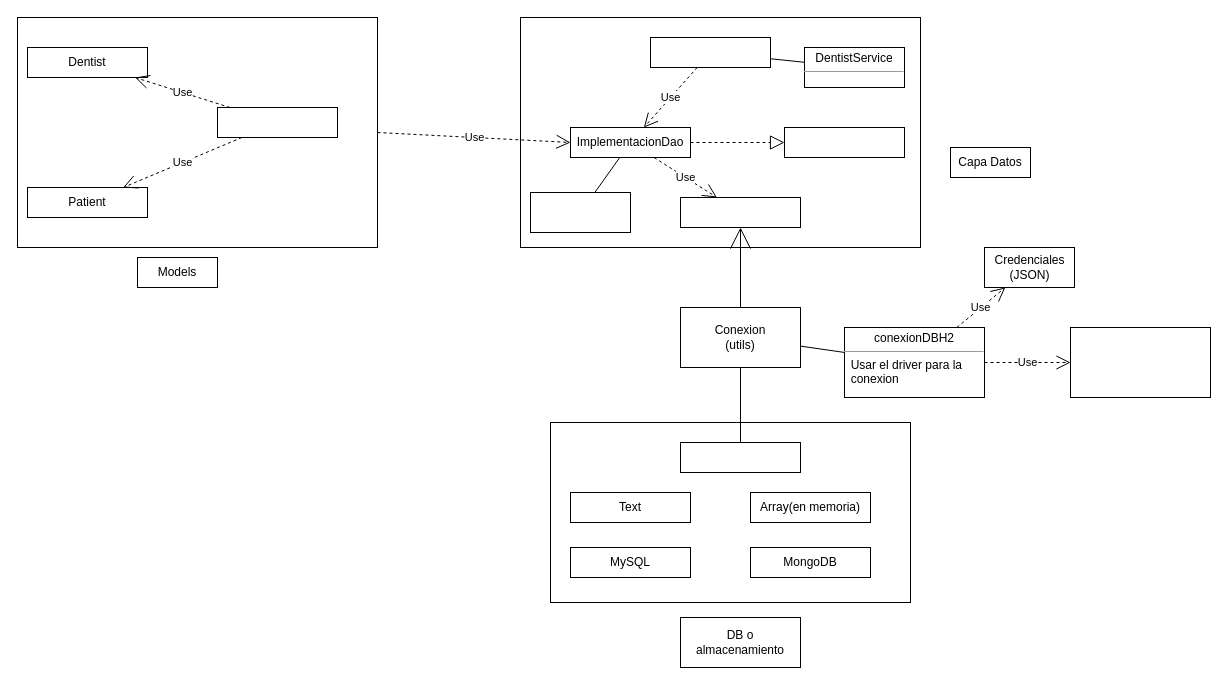
The diagram is 1228 pixels wide and 685 high, and some of its shapes have lost their labels. The shapes that lost their labels are listed below. From the top down, each one's centre as x and y in pixels, then its label:
At (x=710, y=52): "service".
At (x=277, y=122): "Turn".
At (x=844, y=142): "DAO".
At (x=580, y=212): "DentistDAOH2".
At (x=740, y=212): "persistenciaDatos".
At (x=1140, y=362): "createDB(SQL) SQL que crea la DB y las tablas del sistema".
At (x=740, y=457): "H2".
